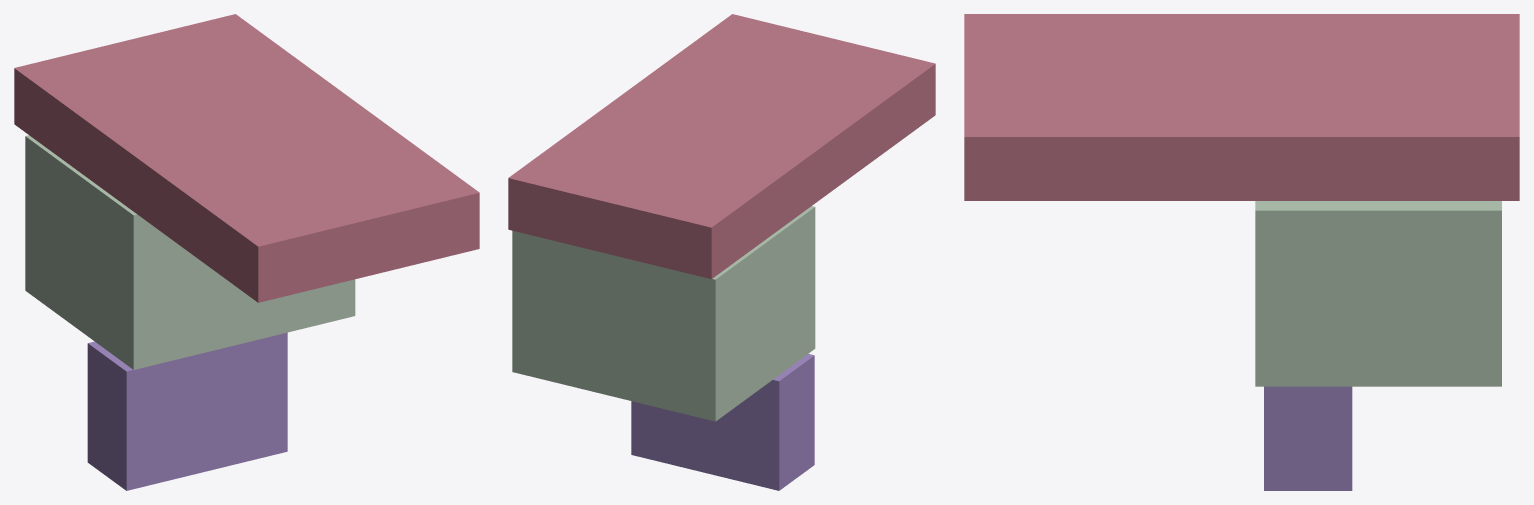
3 views of the same model, side by side, from view 1: azimuth 30°, elevation 25°; view 2: azimuth 150°, elevation 25°; view 3: azimuth 270°, elevation 25° (orthographic). The views are drawn at different scales.
Parts seen in each view (by area): view 1: world; view 2: world; view 3: world.
Part boxes in pixels (bbox=[...]): world: bbox=[14, 14, 479, 490]; world: bbox=[508, 14, 935, 490]; world: bbox=[964, 14, 1519, 490].
Bounding box in the file's own units: 3.35 × 4.85 × 6.3.
